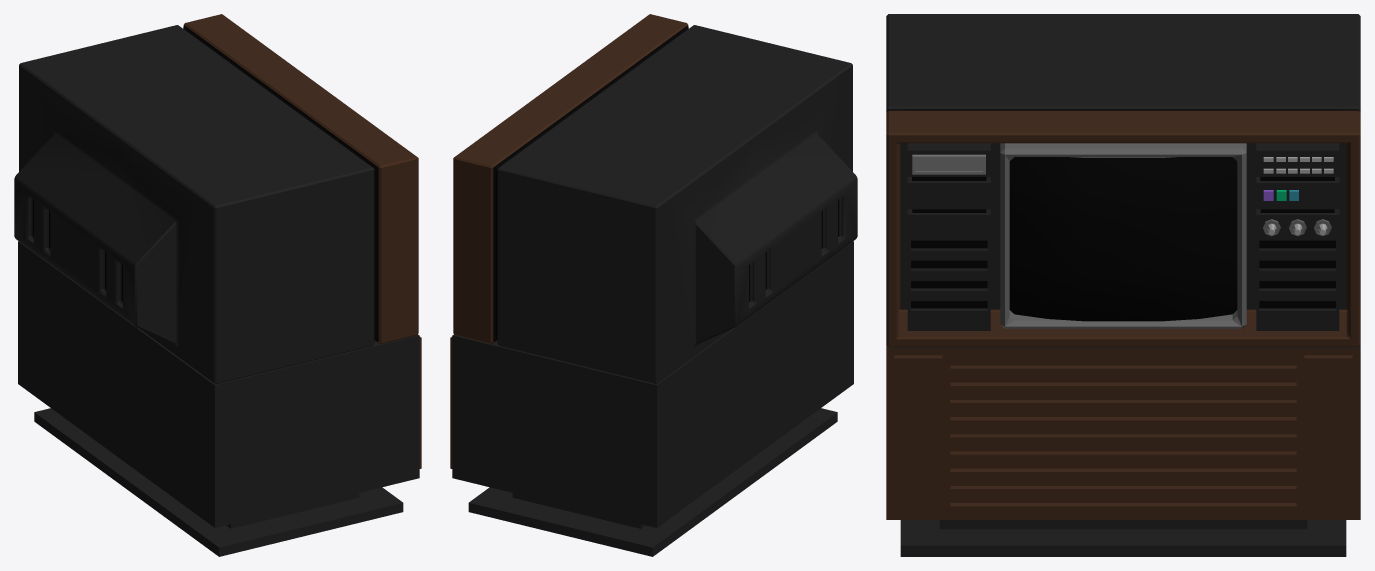
File: TV_CRT_09.glb
The picture shows the model from 3 angles, left to right: view 1: azimuth 30°, elevation 25°; view 2: azimuth 150°, elevation 25°; view 3: azimuth 270°, elevation 25°; orthographic projection. The views are drawn at different scales.
Parts seen in each view (by area): view 1: Mesh_TV_CRT_09; view 2: Mesh_TV_CRT_09; view 3: Mesh_TV_CRT_09.
Part boxes in pixels (x1,y1,x2,y2): Mesh_TV_CRT_09: (14, 14, 421, 556); Mesh_TV_CRT_09: (450, 14, 857, 556); Mesh_TV_CRT_09: (886, 14, 1360, 556).
Bounding box in the file's own units: 0.7586 × 1 × 1.
Materials: 1 (1 with a texture image).
